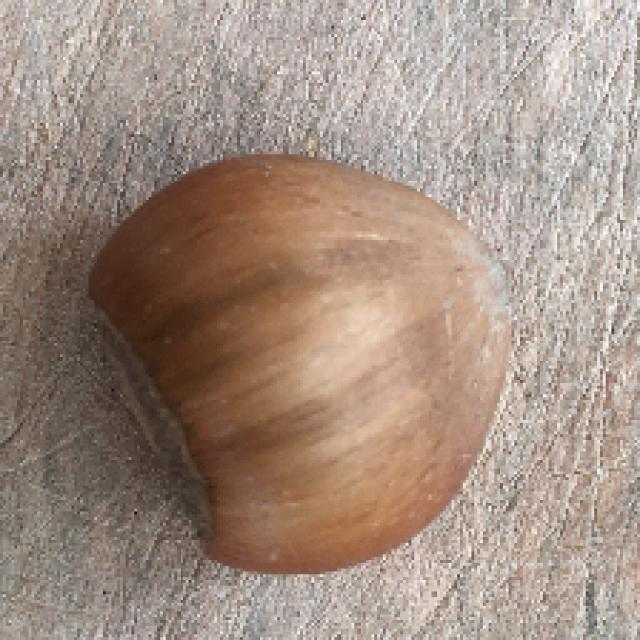damagedHazelnut: (84, 150, 521, 572)
